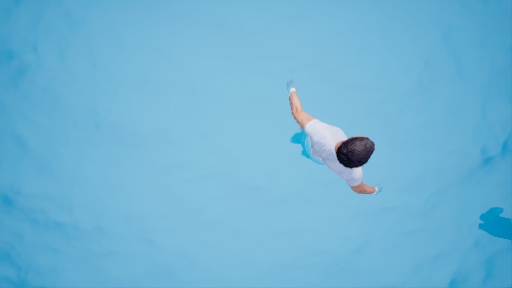person: (279, 90, 381, 199)
